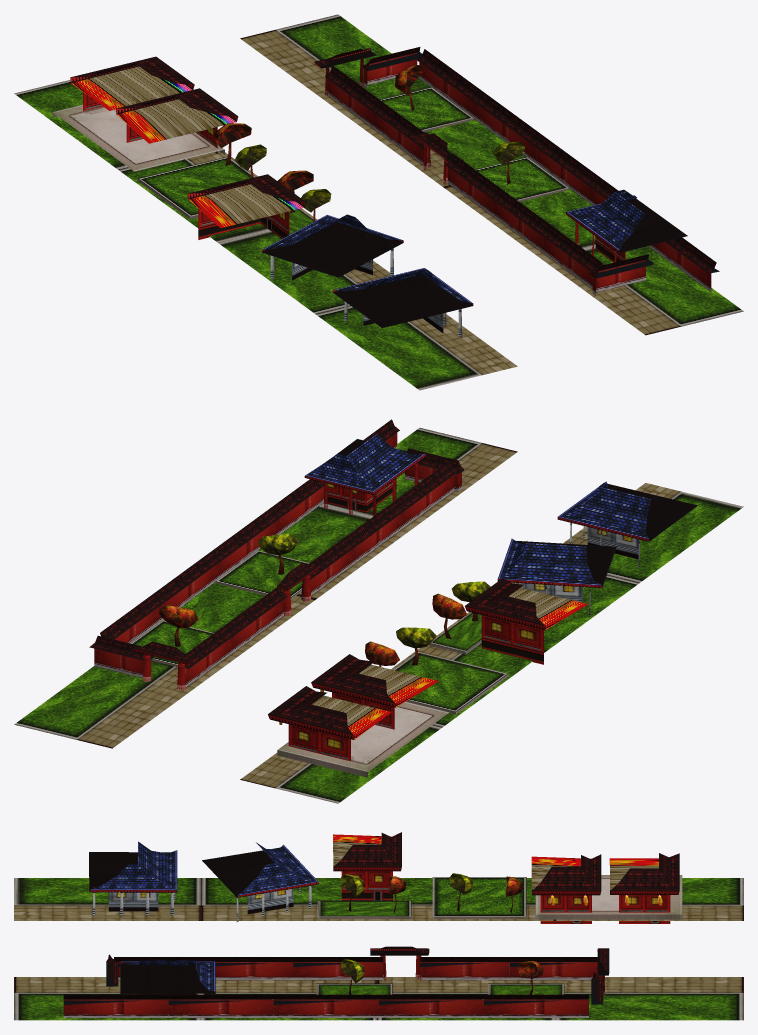
The model's file is as_oldcity_mid3.fbx.
The picture shows the model from 3 angles, top to bottom: view 1: azimuth 30°, elevation 25°; view 2: azimuth 150°, elevation 25°; view 3: azimuth 270°, elevation 25°; orthographic projection. The views are drawn at different scales.
Parts seen in each view (by area): view 1: as_oldcity_mid3; view 2: as_oldcity_mid3; view 3: as_oldcity_mid3.
Boxes of the visible parts, left/top/right/bottom form: as_oldcity_mid3: left=14, top=14, right=743, bottom=390; as_oldcity_mid3: left=14, top=419, right=743, bottom=803; as_oldcity_mid3: left=14, top=832, right=743, bottom=1020.
Size of the model in its own units: 4976 by 811 by 10000.
